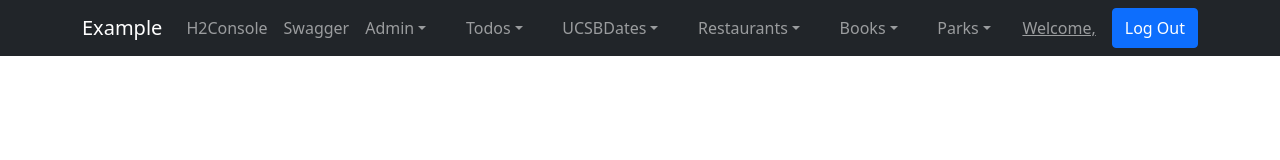
Scenario: AppNavbar tests › renders the books menu correctly for a user
This screenshot has width=1280, height=160.
expect the element with test id "appnavbar-books-dropdown" is shown: met, box [840,17,886,39]
Click the button "Books".
click(869, 28)  # box [832,8,906,48]
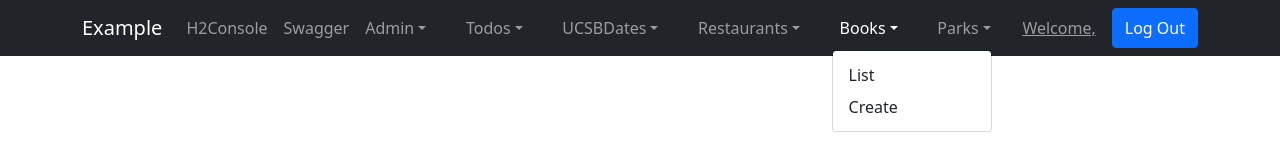
expect the link with test id "appnavbar-books-list" is shown: met, box [849,64,875,86]
